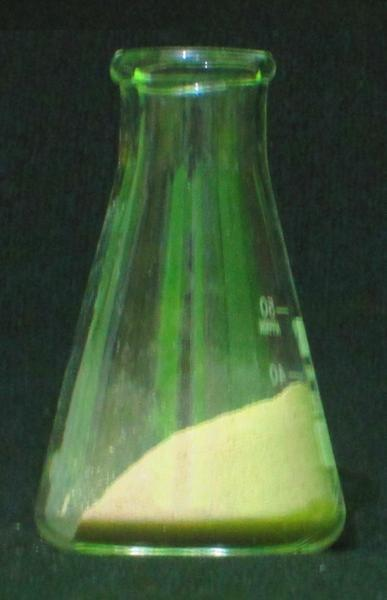Titrarion: (45, 33, 347, 563)
